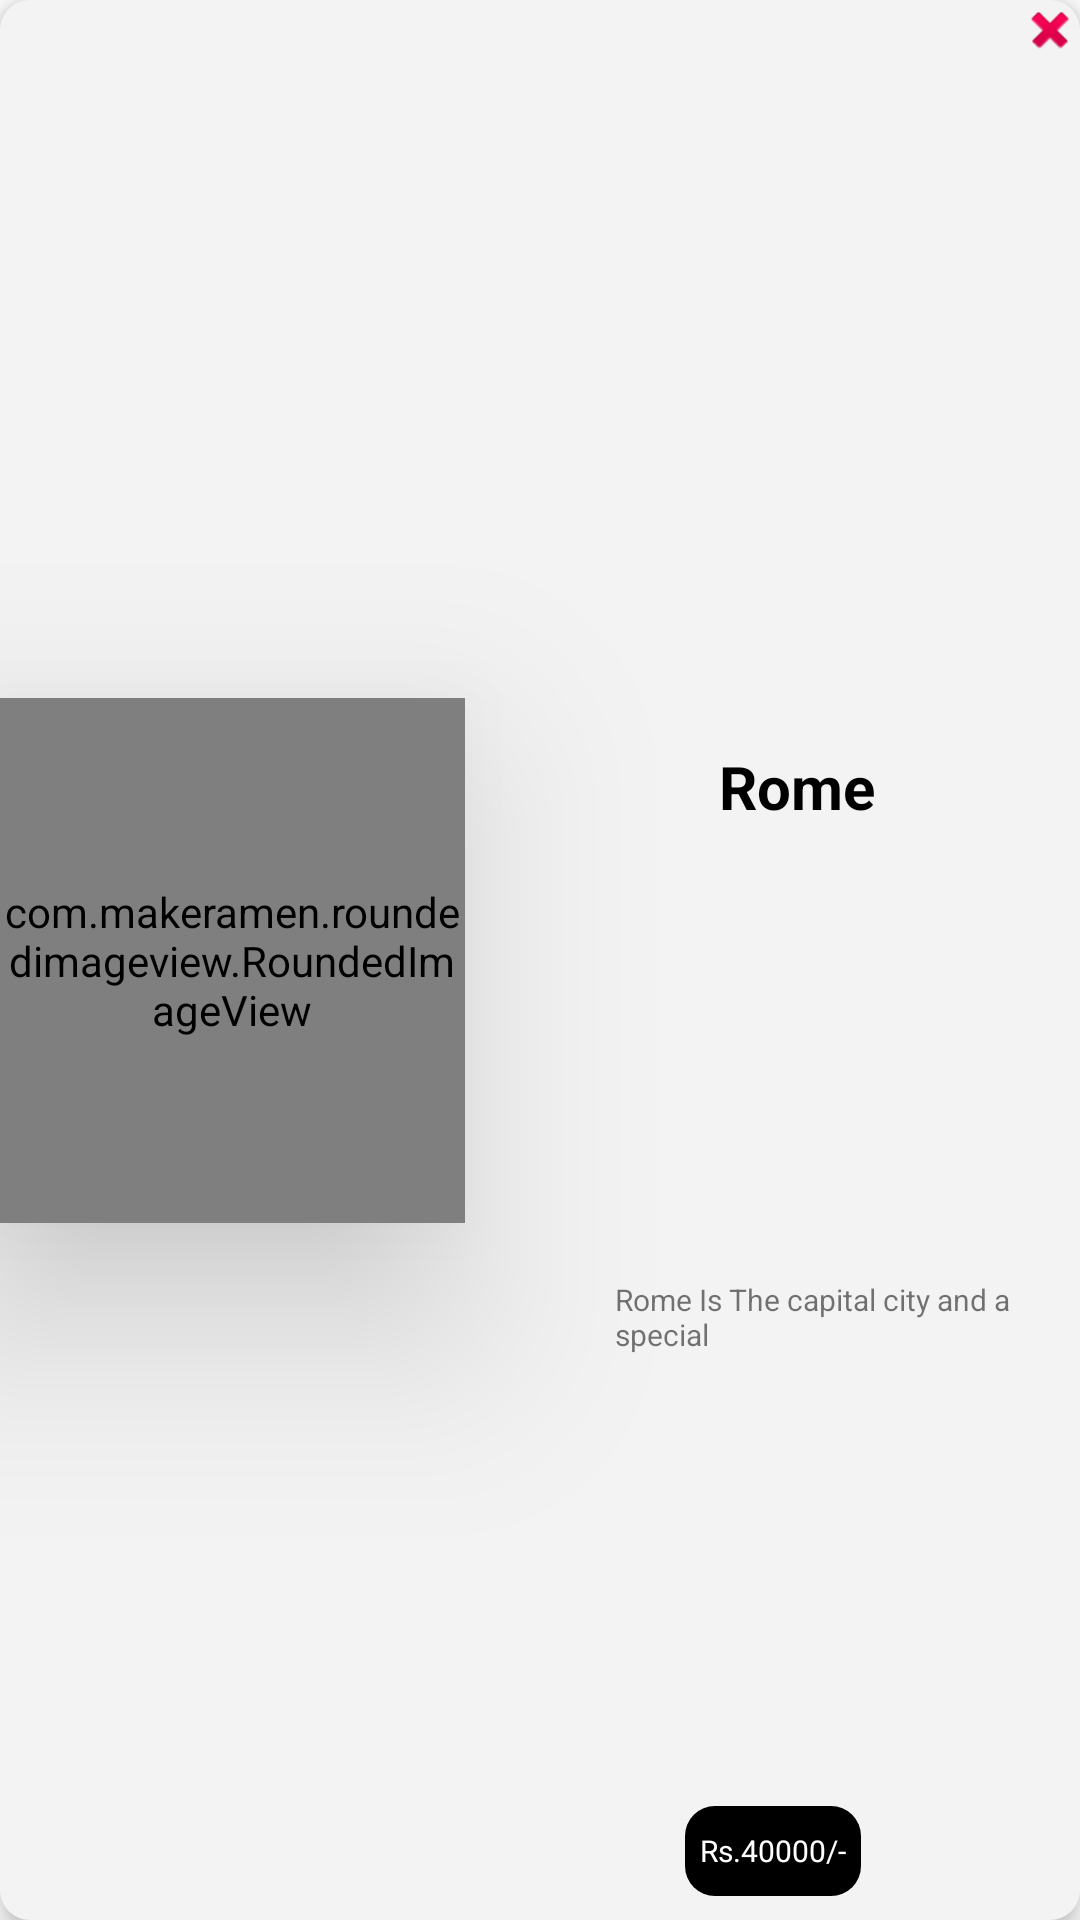

Screen size 1080px x 1920px. Icon name, then its box in pixels as bbox=[x1, y1, x2, y2]:
delete: bbox=[1031, 12, 1069, 49]
